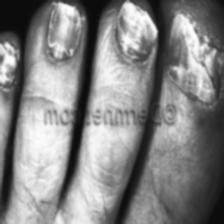Toxin: (165, 12, 224, 93), (40, 0, 84, 55), (113, 0, 159, 50)
